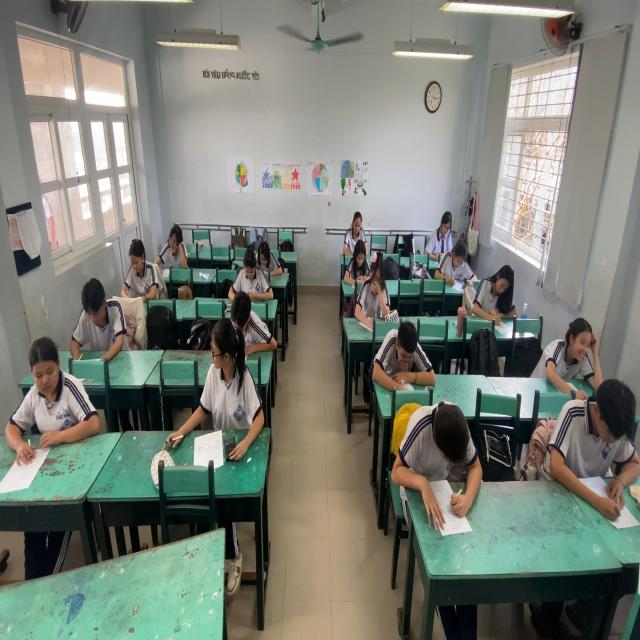cheating: (10, 334, 90, 449), (200, 319, 264, 445)
not_cheating: (551, 373, 625, 504), (411, 409, 480, 495), (67, 270, 121, 362), (380, 315, 430, 397), (549, 313, 598, 395), (470, 261, 517, 329), (118, 242, 158, 312), (226, 290, 270, 352), (232, 243, 273, 302), (439, 235, 473, 292), (157, 222, 188, 282), (339, 204, 372, 254), (345, 235, 373, 289), (364, 260, 390, 318), (256, 234, 287, 282), (429, 208, 458, 257)
